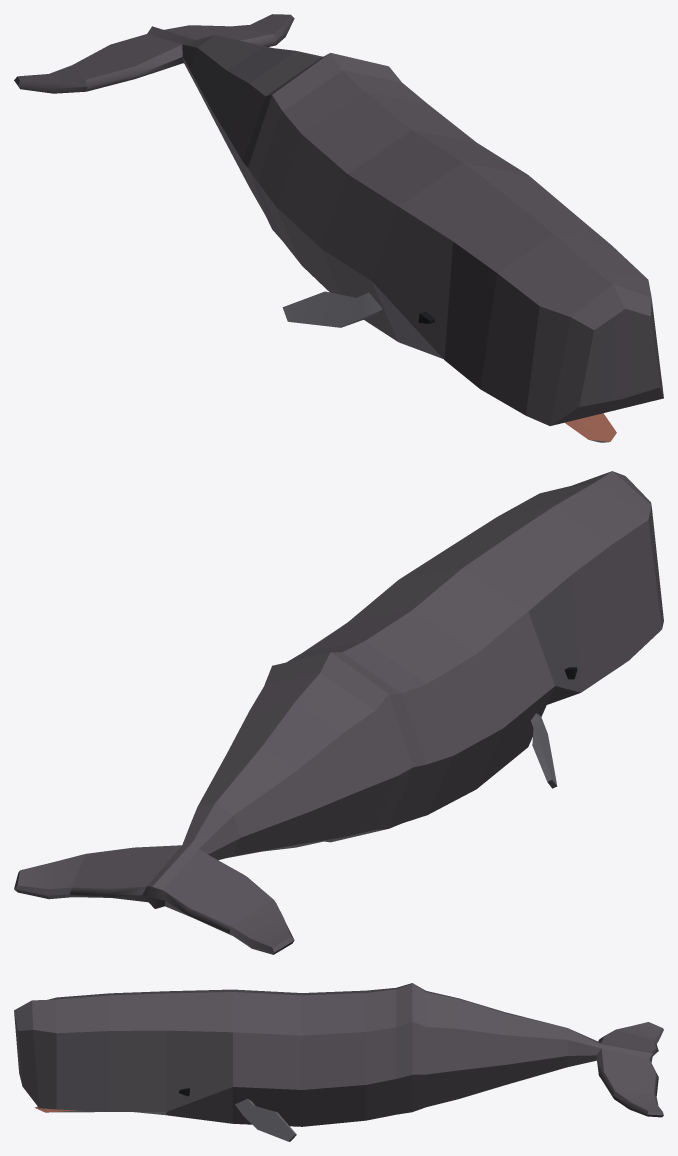
Rendered from Mesh_SpermWhale.gltf.
3 renders of one model, top to bottom at view 1: azimuth 30°, elevation 25°; view 2: azimuth 150°, elevation 25°; view 3: azimuth 270°, elevation 25°, orthographic. The views are drawn at different scales.
Parts seen in each view (by area): view 1: node-0; view 2: node-0; view 3: node-0.
Boxes of the visible parts, x1,y1,x2,y2 form: node-0: [14, 14, 663, 442]; node-0: [14, 471, 663, 954]; node-0: [14, 983, 663, 1141].
Size of the model in its own units: 219 by 159 by 662.
Materials: 1 (1 with a texture image).
